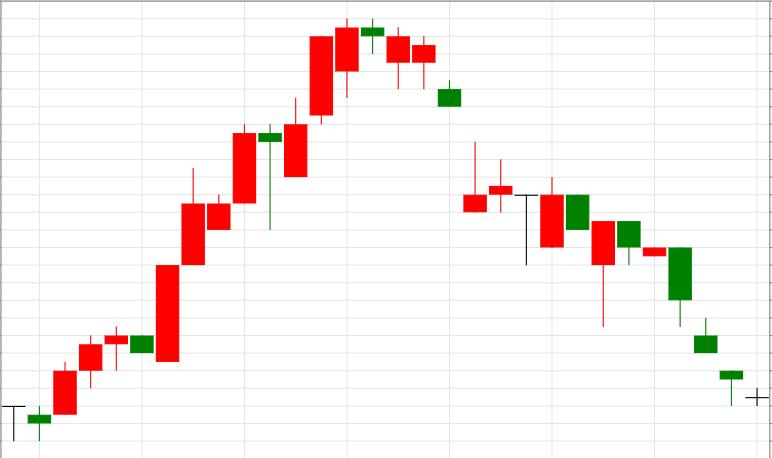hammer_rise: (412, 36, 615, 327)
